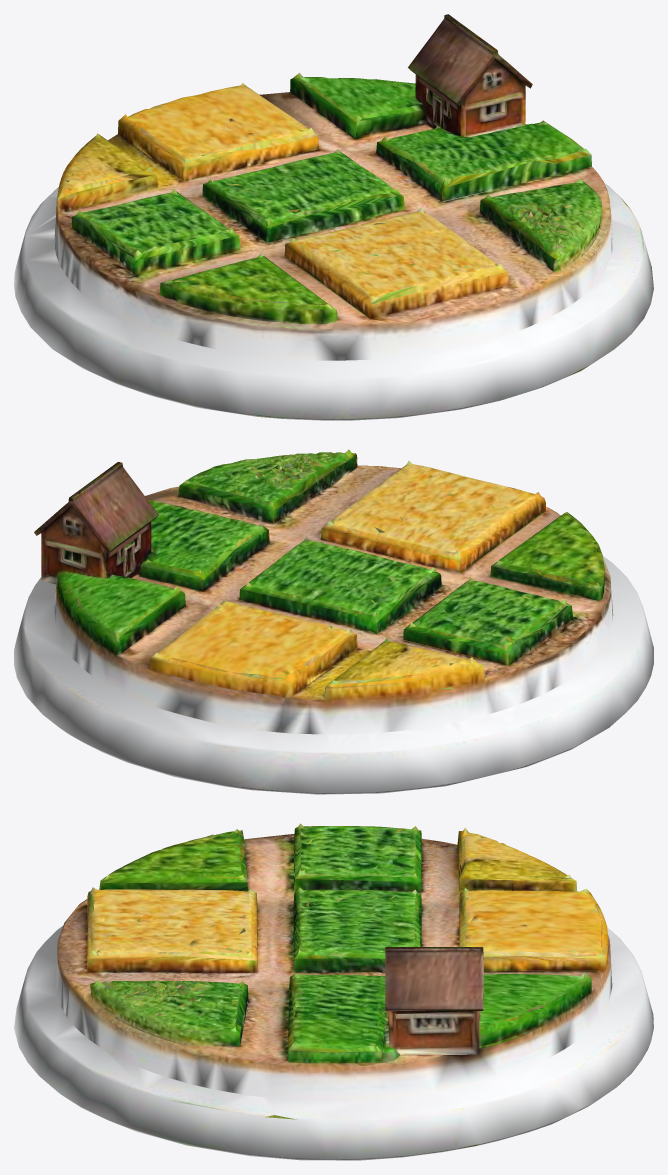
Rendered from farm.glb.
3 views of the same model, one above another, from view 1: azimuth 30°, elevation 25°; view 2: azimuth 150°, elevation 25°; view 3: azimuth 270°, elevation 25° (orthographic).
Visible parts, largest first — view 1: mesh; view 2: mesh; view 3: mesh.
Boxes of the visible parts, <box> form: mesh: <box>14,14,653,420</box>; mesh: <box>14,449,653,794</box>; mesh: <box>14,823,653,1160</box>.
Size of the model in its own units: 0.9996 by 0.2981 by 1.
Materials: 1 (1 with a texture image).
